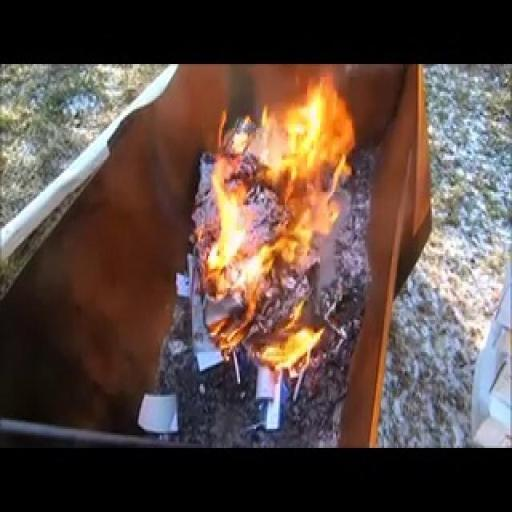smoke: (193, 64, 364, 369)
